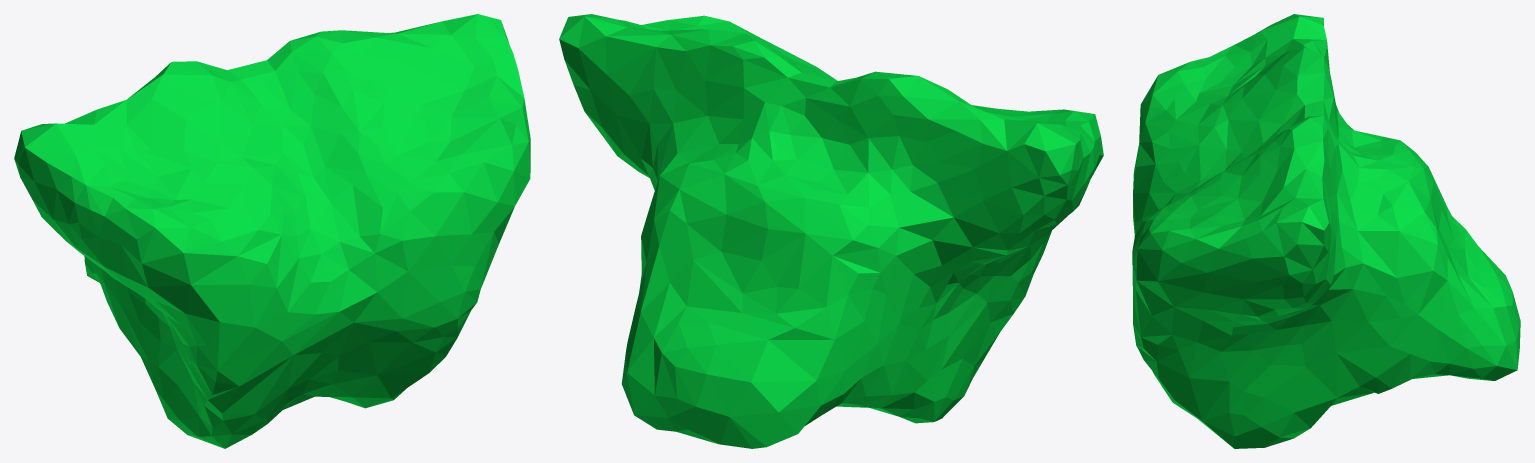
Rendered from 9-32-area 32 of cortex-('0.0000', '1.0000', '0.3059').obj.
3 renders of one model, left to right at view 1: azimuth 30°, elevation 25°; view 2: azimuth 150°, elevation 25°; view 3: azimuth 270°, elevation 25°, orthographic. The views are drawn at different scales.
Size of the model in its own units: 78.35 by 53.5 by 59.12.
